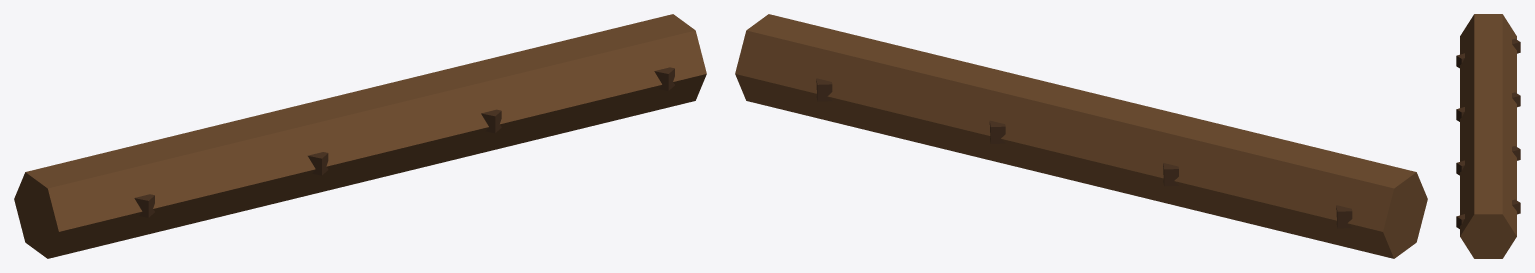
Rendered from hanok_choga_ridge_cap.glb.
3 views of the same model, side by side, from view 1: azimuth 30°, elevation 25°; view 2: azimuth 150°, elevation 25°; view 3: azimuth 270°, elevation 25° (orthographic). The views are drawn at different scales.
Visible parts, largest first — view 1: hanok_choga_ridge_cap; view 2: hanok_choga_ridge_cap; view 3: hanok_choga_ridge_cap.
Boxes of the visible parts, x1=… form: hanok_choga_ridge_cap: x1=14, y1=14, x2=706, y2=258; hanok_choga_ridge_cap: x1=735, y1=14, x2=1427, y2=258; hanok_choga_ridge_cap: x1=1456, y1=14, x2=1520, y2=258.
Size of the model in its own units: 4 by 0.4157 by 0.5404.
